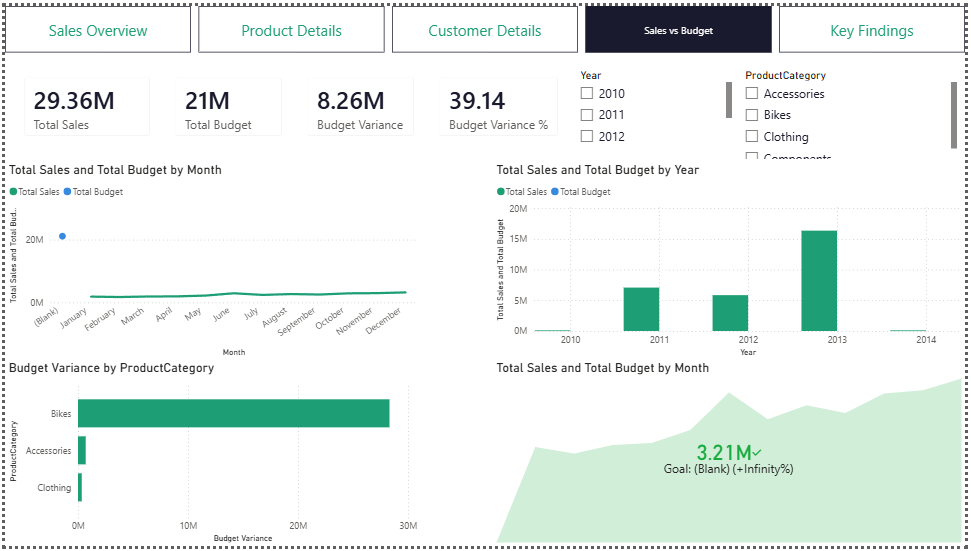

The dashboard page shown, as its layout file describes it:
{"tool":"powerbi","page":{"name":"Sales vs Budget","canvas":[1280,720],"ordinal":3},"visuals":[{"type":"cardVisual","fields":{"Data":["_Measures.Total Sales"]},"box":[8,77.3,202,112],"z":0},{"type":"cardVisual","fields":{"Data":["_Measures.Total Budget"]},"box":[210,77.3,176,112],"z":1},{"type":"cardVisual","fields":{"Data":["_Measures.Budget Variance"]},"box":[386,77.3,176,112],"z":2},{"type":"cardVisual","fields":{"Data":["_Measures.Budget Variance %"]},"box":[562,77.3,192,112],"z":3},{"type":"lineChart","fields":{"Y":["_Measures.Total Sales","_Measures.Total Budget"],"Category":["DIM_Calendar.Month"]},"box":[0,208,554,264],"z":4},{"type":"clusteredColumnChart","fields":{"Category":["DIM_Calendar.Year"],"Y":["_Measures.Total Sales","_Measures.Total Budget"]},"box":[650,208,630,264],"z":5},{"type":"clusteredBarChart","fields":{"Y":["_Measures.Budget Variance"],"Category":["DIM_Product.ProductCategory"]},"box":[0,472,554,248],"z":6},{"type":"kpi","fields":{"Indicator":["_Measures.Total Sales"],"Goal":["_Measures.Total Budget"],"TrendLine":["DIM_Calendar.Month"]},"box":[650,472,630,248],"z":7},{"type":"slicer","fields":{"Values":["DIM_Calendar.Year"]},"box":[754,77.3,220,112],"z":8},{"type":"slicer","fields":{"Values":["DIM_Product.ProductCategory"]},"box":[974,77.3,300,130],"z":9},{"type":"pageNavigator","box":[0,0,1280,62],"z":10}]}

Visuals, with their boxes in screenshot pixels (x1, y1, x2, y2), scaled from the page's 1280x720 canvas onto the 971x551 screenshot:
cardVisual - _Measures.Total Sales: BBox(6, 59, 159, 145)
cardVisual - _Measures.Total Budget: BBox(159, 59, 293, 145)
cardVisual - _Measures.Budget Variance: BBox(293, 59, 426, 145)
cardVisual - _Measures.Budget Variance %: BBox(426, 59, 572, 145)
lineChart - _Measures.Total Sales x _Measures.Total Budget: BBox(0, 159, 420, 361)
clusteredColumnChart - DIM_Calendar.Year x _Measures.Total Sales: BBox(493, 159, 970, 361)
clusteredBarChart - _Measures.Budget Variance x DIM_Product.ProductCategory: BBox(0, 361, 420, 550)
kpi - _Measures.Total Sales x _Measures.Total Budget: BBox(493, 361, 970, 550)
slicer - DIM_Calendar.Year: BBox(572, 59, 739, 145)
slicer - DIM_Product.ProductCategory: BBox(739, 59, 966, 159)
pageNavigator: BBox(0, 0, 970, 47)
